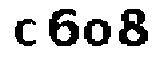6: (45, 4, 83, 51)
8: (116, 3, 151, 51)
c: (12, 18, 41, 49)
o: (84, 18, 112, 48)
